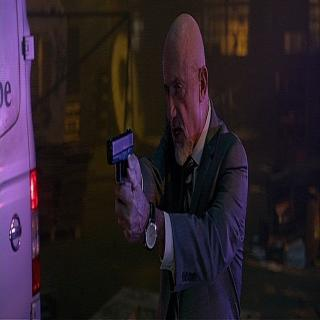gun: (106, 114, 143, 240)
